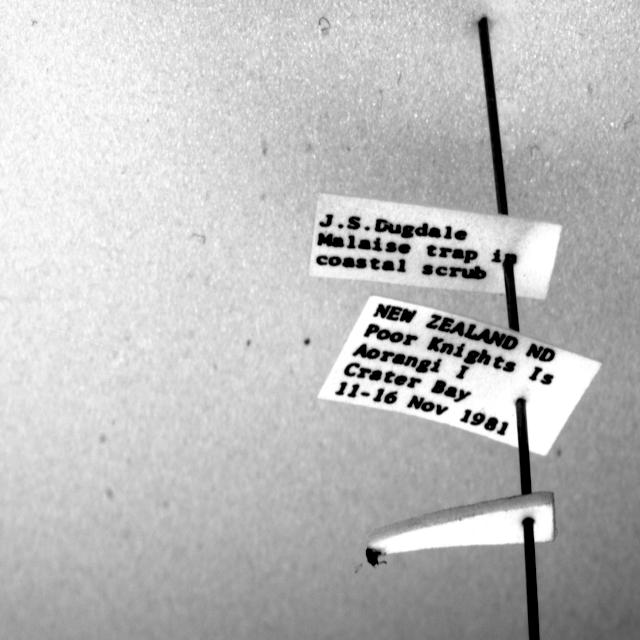typed_label: (319, 296, 601, 456), (310, 193, 561, 300)
